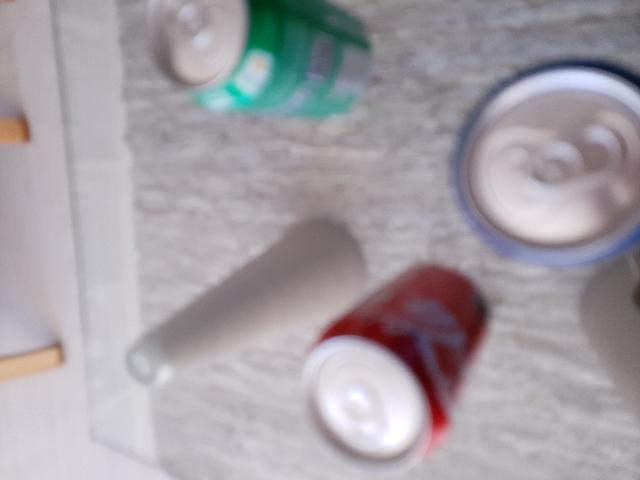coke: (304, 266, 491, 474)
pepsi: (448, 58, 640, 266)
sprite: (148, 0, 374, 126)
